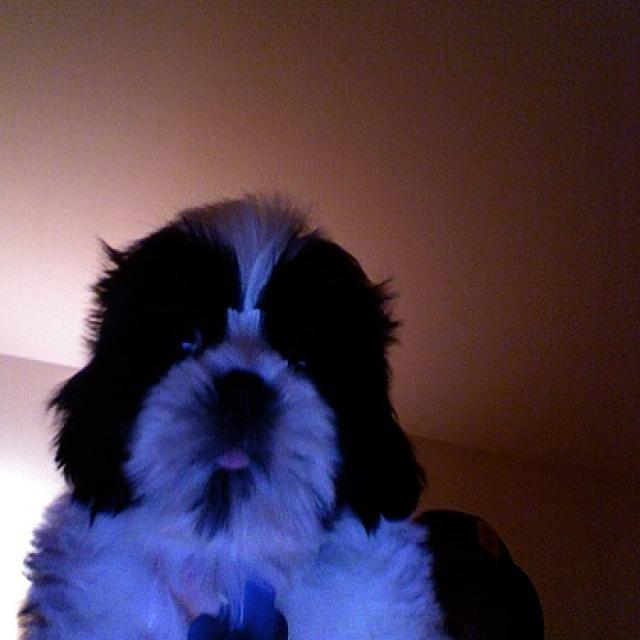dog: (14, 193, 448, 638)
